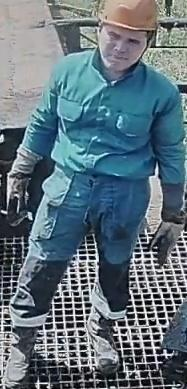gloves: (148, 210, 187, 269), (5, 165, 37, 227)
helmet: (97, 0, 159, 40)
vest: (31, 50, 183, 188)
